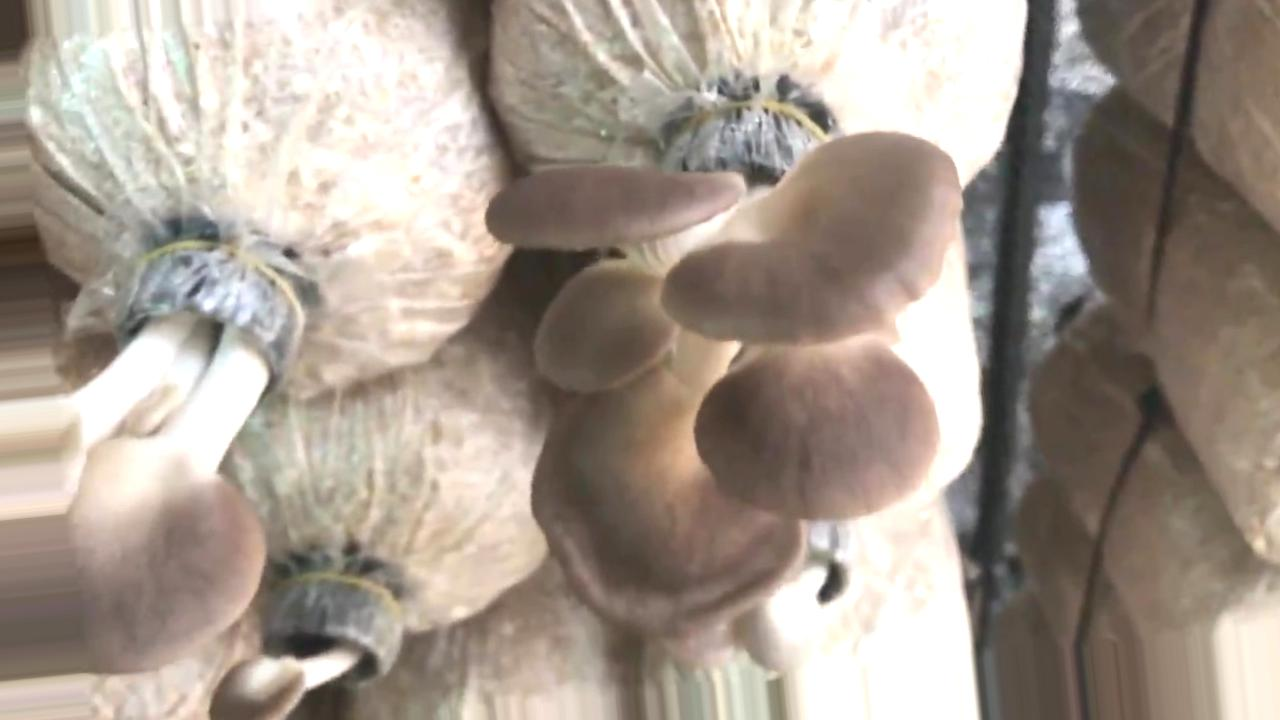nam: (488, 101, 961, 640), (1, 242, 297, 675), (214, 573, 395, 720)
